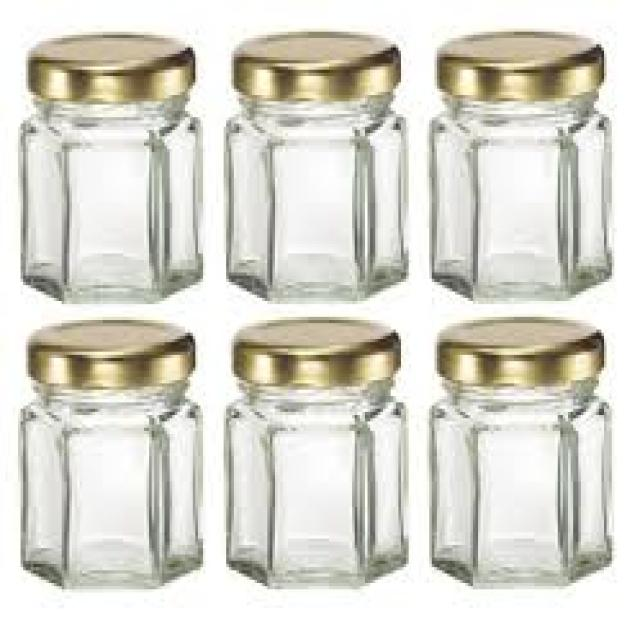glass: (221, 92, 409, 298), (16, 380, 201, 583), (18, 95, 200, 301), (429, 380, 609, 586), (427, 92, 609, 295), (224, 383, 406, 583)
metal: (432, 25, 604, 95), (229, 29, 398, 98), (437, 314, 601, 383), (26, 29, 190, 98), (26, 317, 193, 383), (234, 317, 398, 383)
